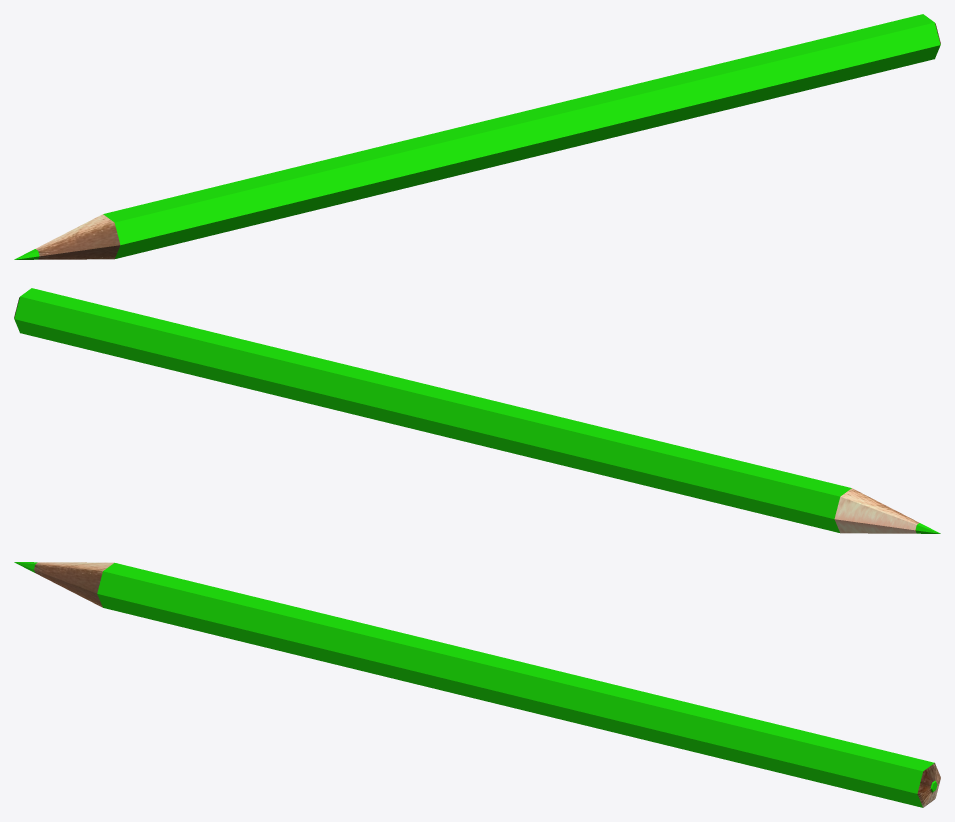
Rendered from Pencil_Green.fbx.
3 renders of one model, top to bottom at view 1: azimuth 30°, elevation 25°; view 2: azimuth 150°, elevation 25°; view 3: azimuth 330°, elevation 25°, orthographic.
Visible parts, largest first — view 1: Cylinder.003; view 2: Cylinder.003; view 3: Cylinder.003.
Boxes of the visible parts, box(x1,y1,x2,y2) form: Cylinder.003: box(14, 14, 940, 259); Cylinder.003: box(14, 288, 940, 533); Cylinder.003: box(14, 562, 940, 807).
Size of the model in its own units: 2482 by 94.31 by 109.
